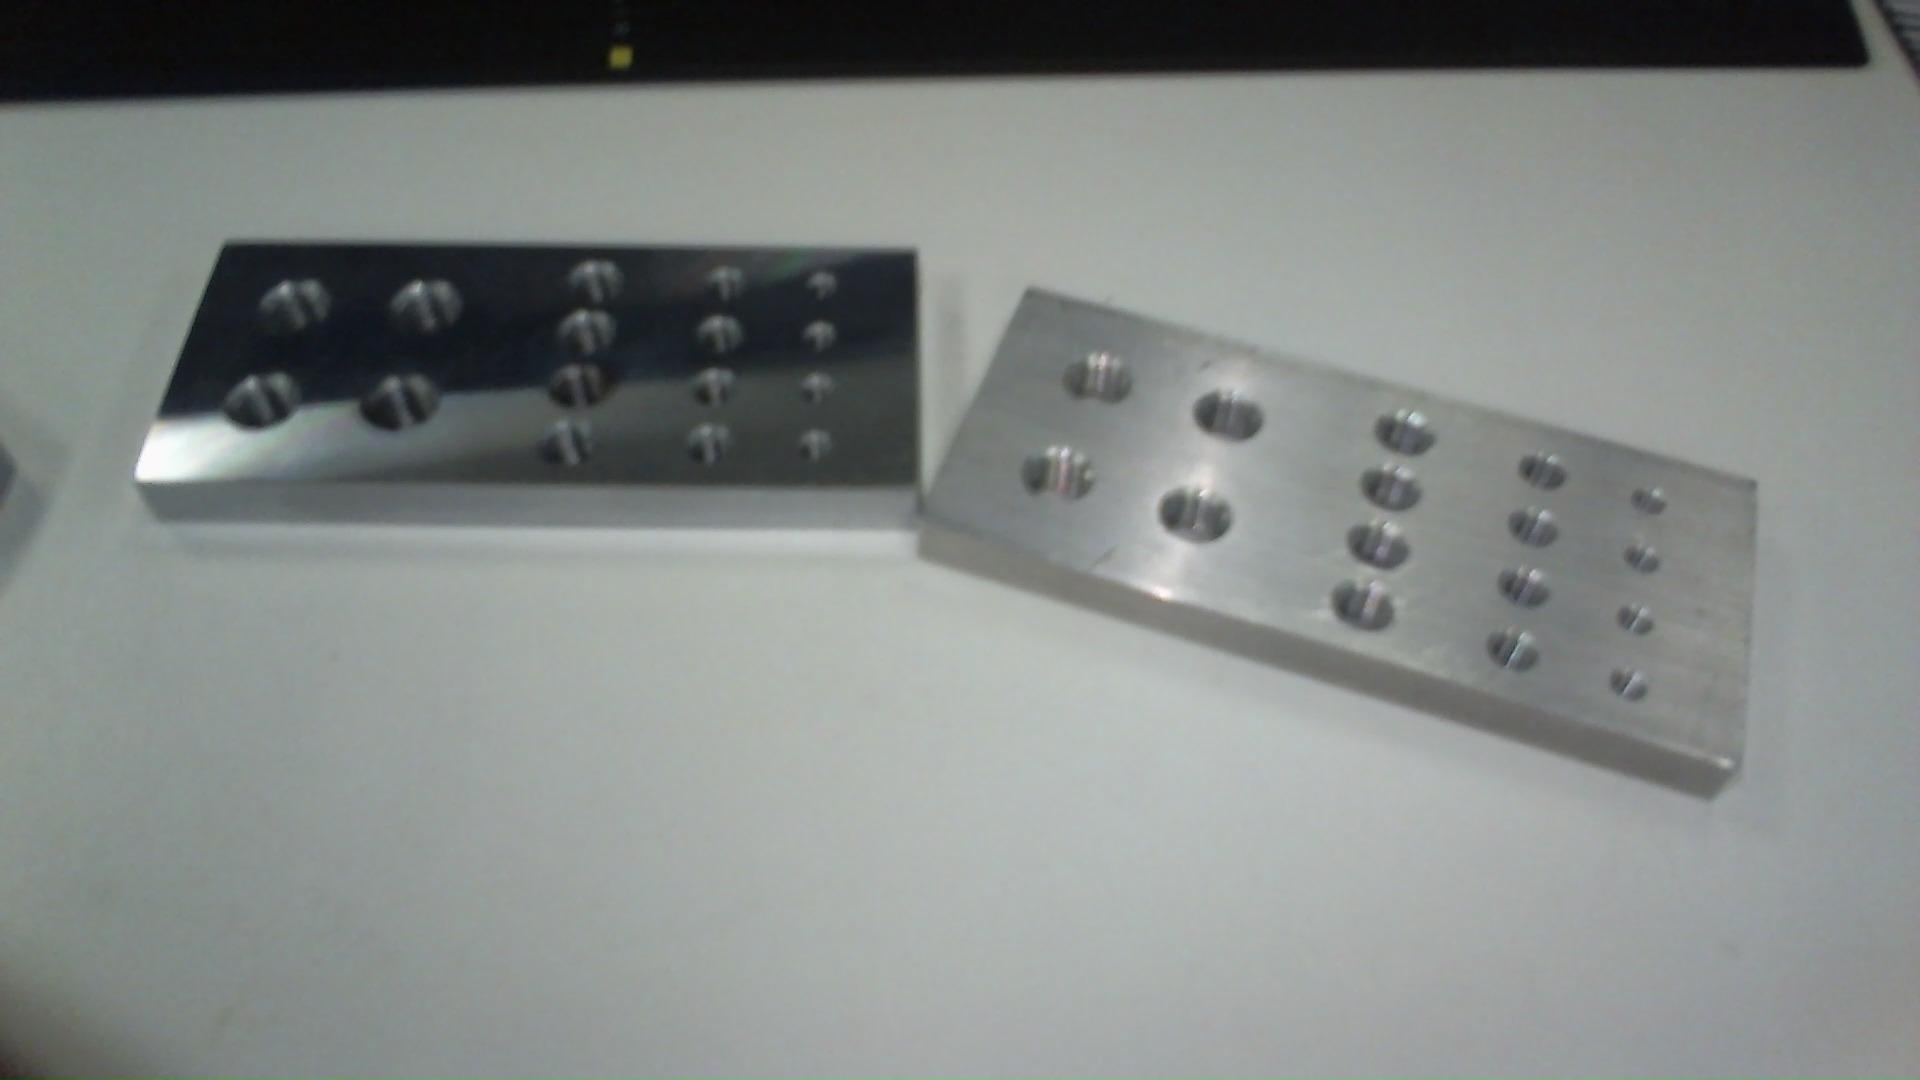hole: (1007, 429, 1098, 513), (359, 367, 447, 450), (1146, 481, 1241, 556), (382, 272, 472, 348), (253, 266, 335, 349), (211, 373, 307, 440), (1188, 382, 1274, 455), (1060, 345, 1138, 419), (1366, 400, 1445, 462), (1349, 463, 1433, 517), (1338, 524, 1425, 575), (1323, 582, 1399, 640), (545, 360, 618, 418), (1484, 618, 1549, 682), (542, 409, 605, 468), (1510, 443, 1573, 497), (558, 314, 629, 361), (1509, 502, 1572, 555), (1489, 563, 1557, 611), (568, 252, 629, 305), (702, 260, 757, 313), (794, 309, 844, 365), (793, 425, 845, 475), (691, 368, 742, 415), (800, 257, 847, 310), (686, 423, 737, 469), (699, 316, 754, 359), (1621, 538, 1668, 582), (793, 368, 840, 410), (1627, 485, 1673, 527), (1609, 666, 1650, 712), (1615, 605, 1663, 638)
